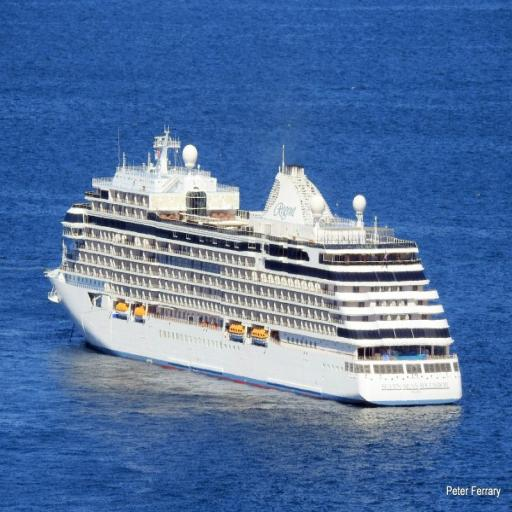cruises: (42, 125, 466, 415)
